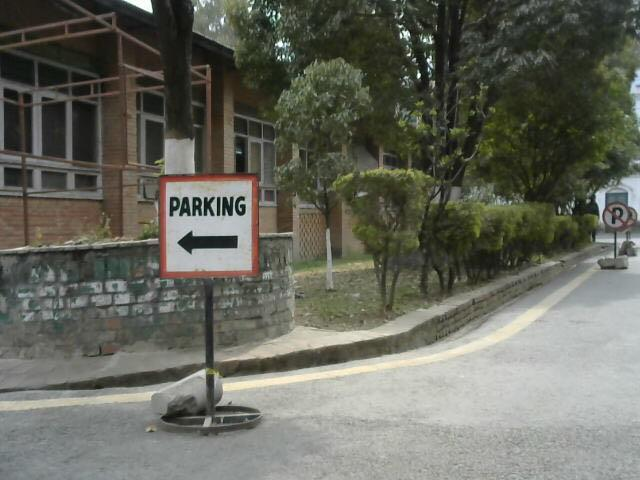Road: (0, 308, 640, 480)
Traffic sign: (154, 169, 260, 434), (600, 194, 636, 276)
Tree: (226, 1, 640, 169), (336, 173, 431, 318), (478, 201, 576, 282), (425, 201, 481, 299)
